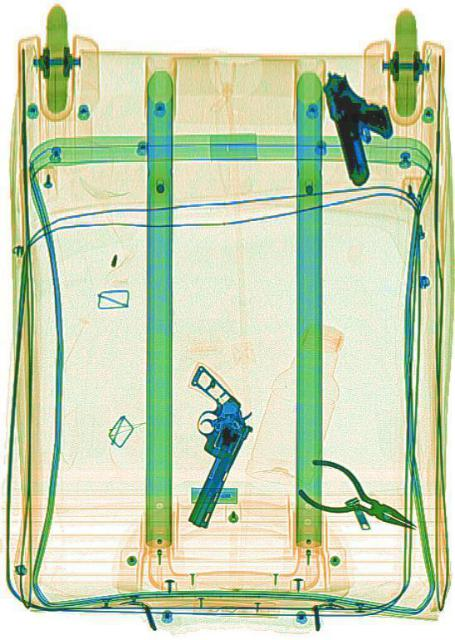Gun: (141, 362, 260, 532), (317, 51, 402, 189)
Pliers: (293, 448, 420, 552)
